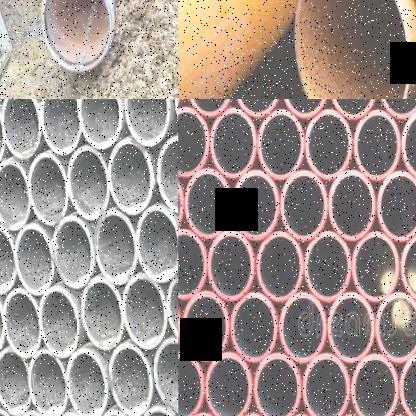pipe: (295, 0, 410, 99), (41, 0, 113, 72), (210, 107, 258, 179), (122, 272, 166, 350), (109, 138, 154, 214), (304, 231, 352, 302), (279, 292, 327, 363), (327, 292, 375, 363), (232, 170, 280, 240), (352, 232, 400, 302), (305, 109, 353, 179), (183, 291, 230, 362), (354, 110, 401, 181), (184, 168, 233, 236), (256, 232, 304, 301), (257, 110, 305, 179), (280, 171, 327, 241), (136, 204, 178, 282), (329, 170, 375, 240), (231, 292, 277, 362), (207, 231, 255, 298), (108, 343, 152, 416), (67, 146, 110, 220), (94, 210, 137, 284), (253, 352, 302, 416), (81, 277, 123, 350), (54, 215, 95, 289), (301, 353, 349, 416), (205, 352, 252, 416), (351, 353, 398, 416), (14, 223, 54, 295), (375, 292, 416, 362), (39, 287, 79, 358), (66, 349, 108, 416), (29, 154, 68, 226), (377, 171, 416, 241), (3, 289, 41, 358), (28, 349, 67, 416), (124, 99, 171, 148), (2, 99, 40, 159), (41, 99, 81, 155), (78, 99, 122, 149), (178, 107, 210, 175), (0, 347, 31, 415), (0, 161, 30, 230), (152, 337, 178, 414), (178, 229, 207, 298), (178, 351, 205, 416), (158, 136, 178, 214), (0, 224, 17, 294), (400, 232, 416, 302), (399, 352, 416, 416), (401, 108, 416, 180), (329, 99, 378, 119), (166, 268, 178, 348), (186, 99, 233, 117), (233, 99, 280, 117), (282, 99, 328, 117), (379, 99, 416, 119), (178, 168, 184, 239), (139, 407, 178, 416), (96, 409, 138, 416), (0, 98, 4, 168), (0, 286, 4, 354), (17, 409, 55, 416), (0, 407, 19, 416)
